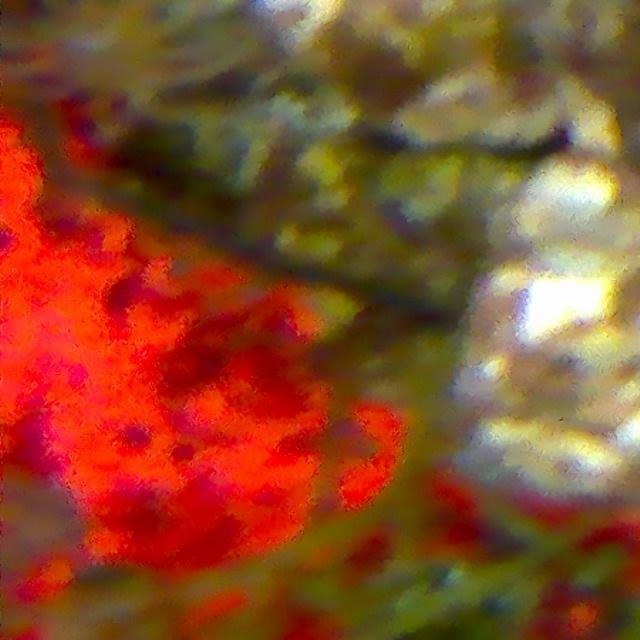SeaGrape: (298, 567, 349, 619)
